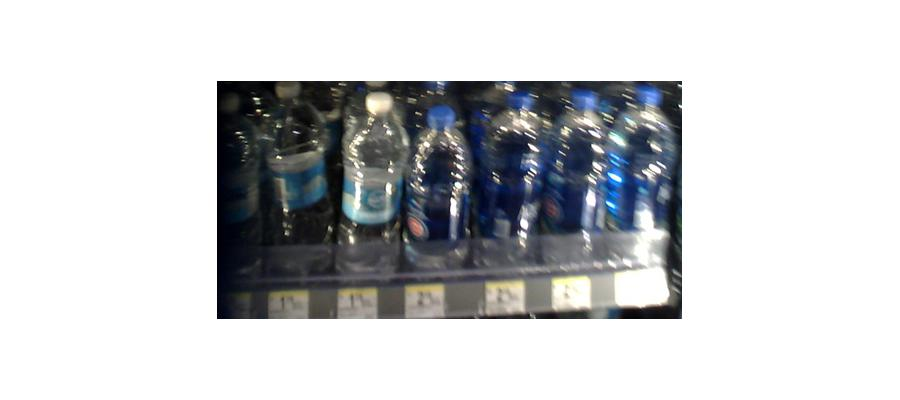bottle: (335, 90, 405, 286), (475, 96, 551, 269), (607, 91, 675, 275), (266, 94, 331, 283), (404, 104, 473, 276), (543, 94, 606, 269), (218, 90, 259, 280)
